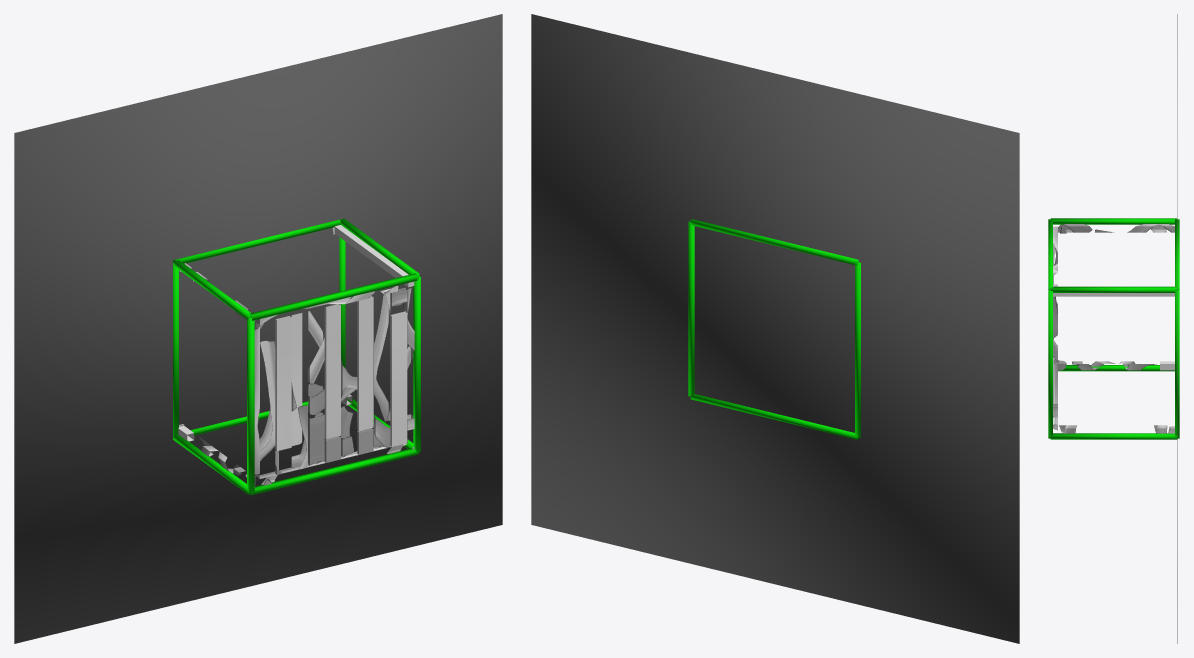
The picture shows the model from 3 angles, left to right: view 1: azimuth 30°, elevation 25°; view 2: azimuth 150°, elevation 25°; view 3: azimuth 270°, elevation 25°; orthographic projection. The views are drawn at different scales.
Bounding box in the file's own units: 2 × 2 × 0.5554.
